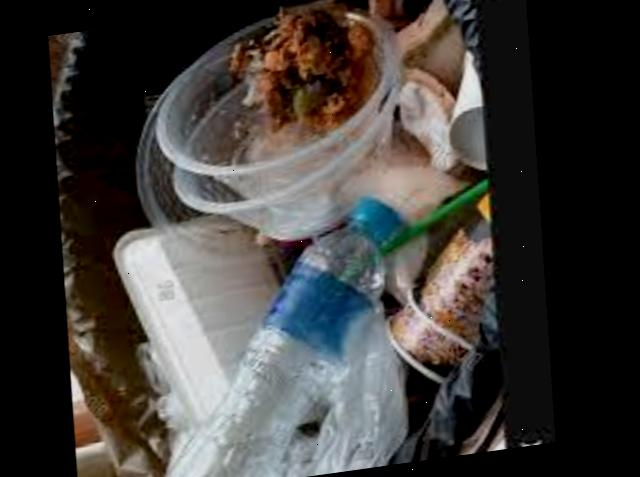Disposable: (139, 12, 401, 239), (119, 215, 283, 428), (393, 193, 499, 381), (456, 53, 484, 122)
Garbage: (118, 0, 509, 477)
Plastic_Bag: (316, 311, 415, 476)
Plastic_Straw: (384, 178, 493, 254)
Plastic_bottle: (175, 196, 404, 477)
